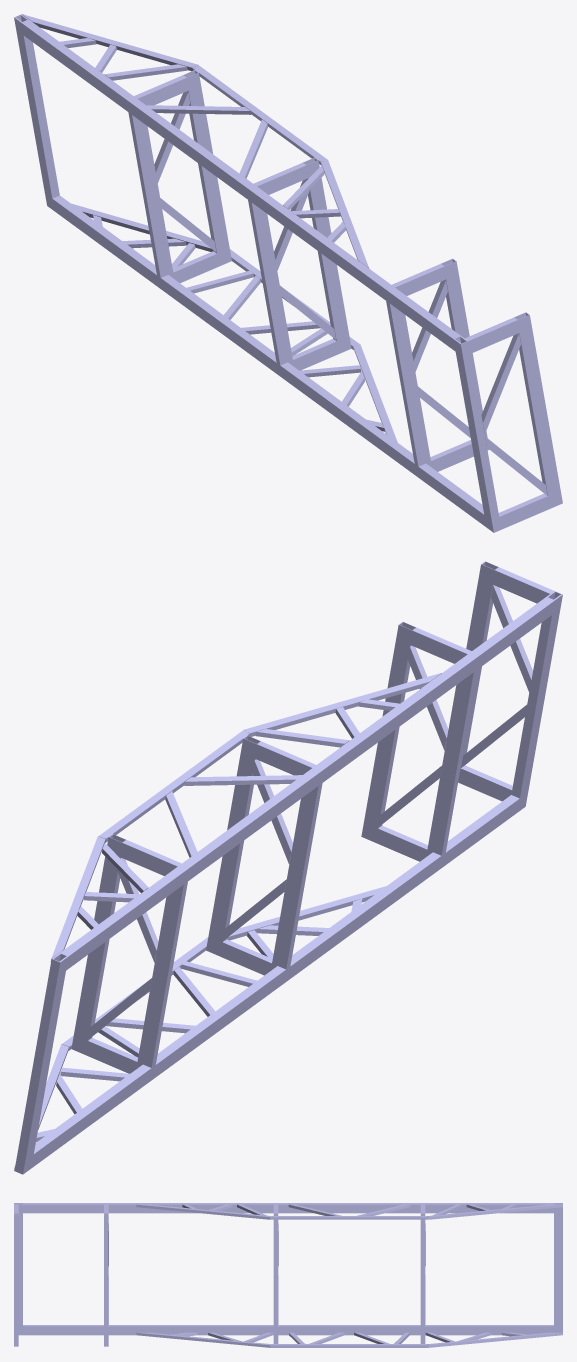
The model's file is g7_cradle.glb.
3 renders of one model, top to bottom at view 1: azimuth 30°, elevation 25°; view 2: azimuth 150°, elevation 25°; view 3: azimuth 270°, elevation 25°, orthographic. The views are drawn at different scales.
Parts seen in each view (by area): view 1: cradleLbase_0.001; view 2: cradleLbase_0.001; view 3: cradleLbase_0.001.
Part boxes in pixels (x1,y1,x2,y2): cradleLbase_0.001: (14,14,562,532); cradleLbase_0.001: (14,561,562,1174); cradleLbase_0.001: (14,1203,562,1347).
Bounding box in the file's own units: 84.84 × 157 × 604.
